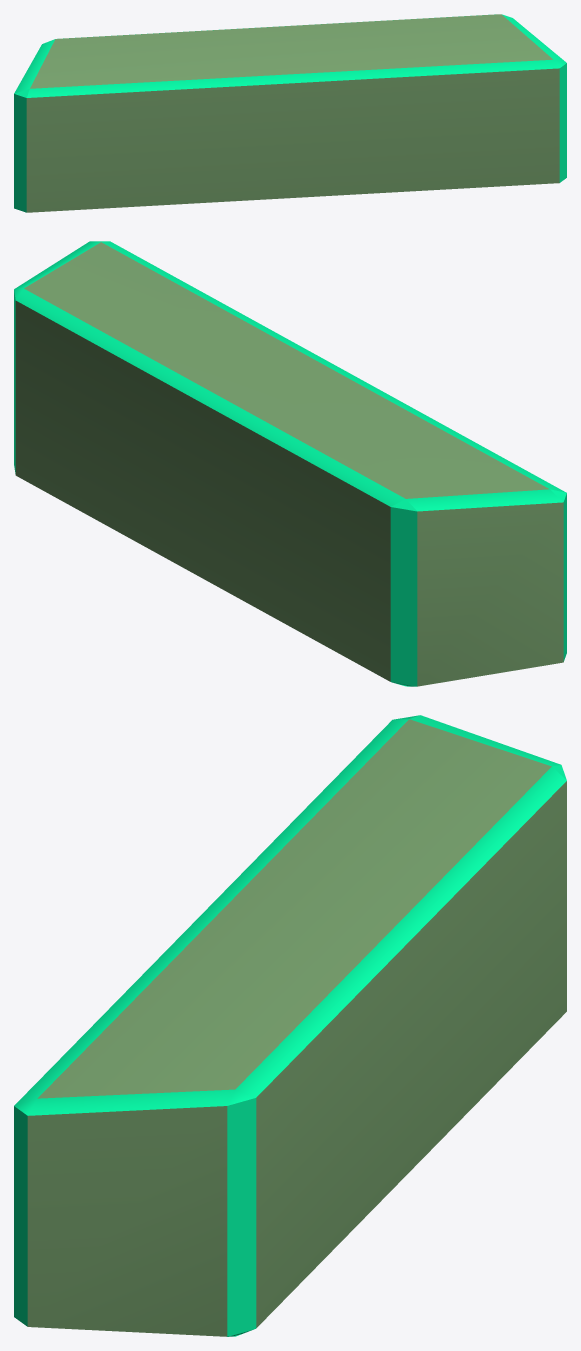
The model's file is GreenL3.fbx.
3 renders of one model, top to bottom at view 1: azimuth 30°, elevation 25°; view 2: azimuth 150°, elevation 25°; view 3: azimuth 270°, elevation 25°, orthographic. The views are drawn at different scales.
Visible parts, largest first — view 1: polySurface70; view 2: polySurface70; view 3: polySurface70.
Boxes of the visible parts, x1,y1,x2,y2 form: polySurface70: (14, 14, 566, 212); polySurface70: (14, 241, 566, 686); polySurface70: (14, 715, 566, 1336).
Bounding box in the file's own units: 2.51 × 0.7213 × 1.46.
